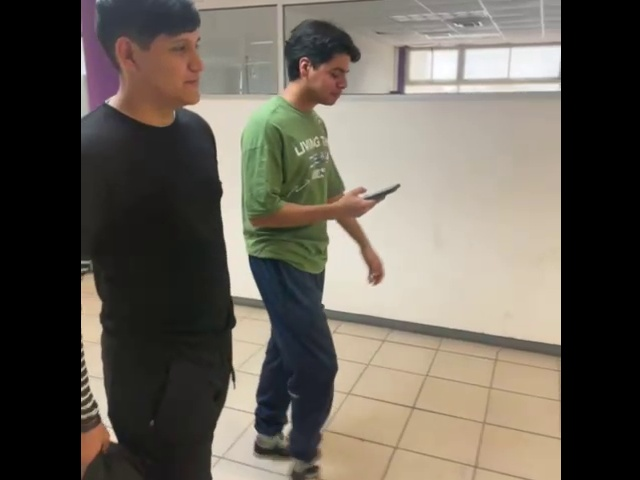mixto2: (351, 181, 406, 203)
